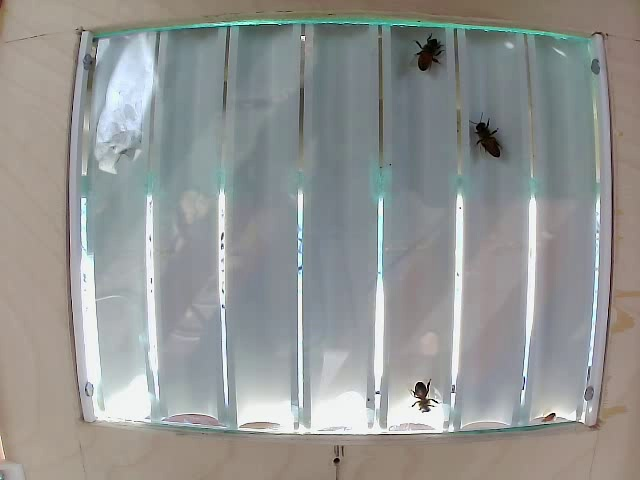bee: (464, 108, 509, 169), (411, 36, 443, 78), (413, 383, 440, 413)
